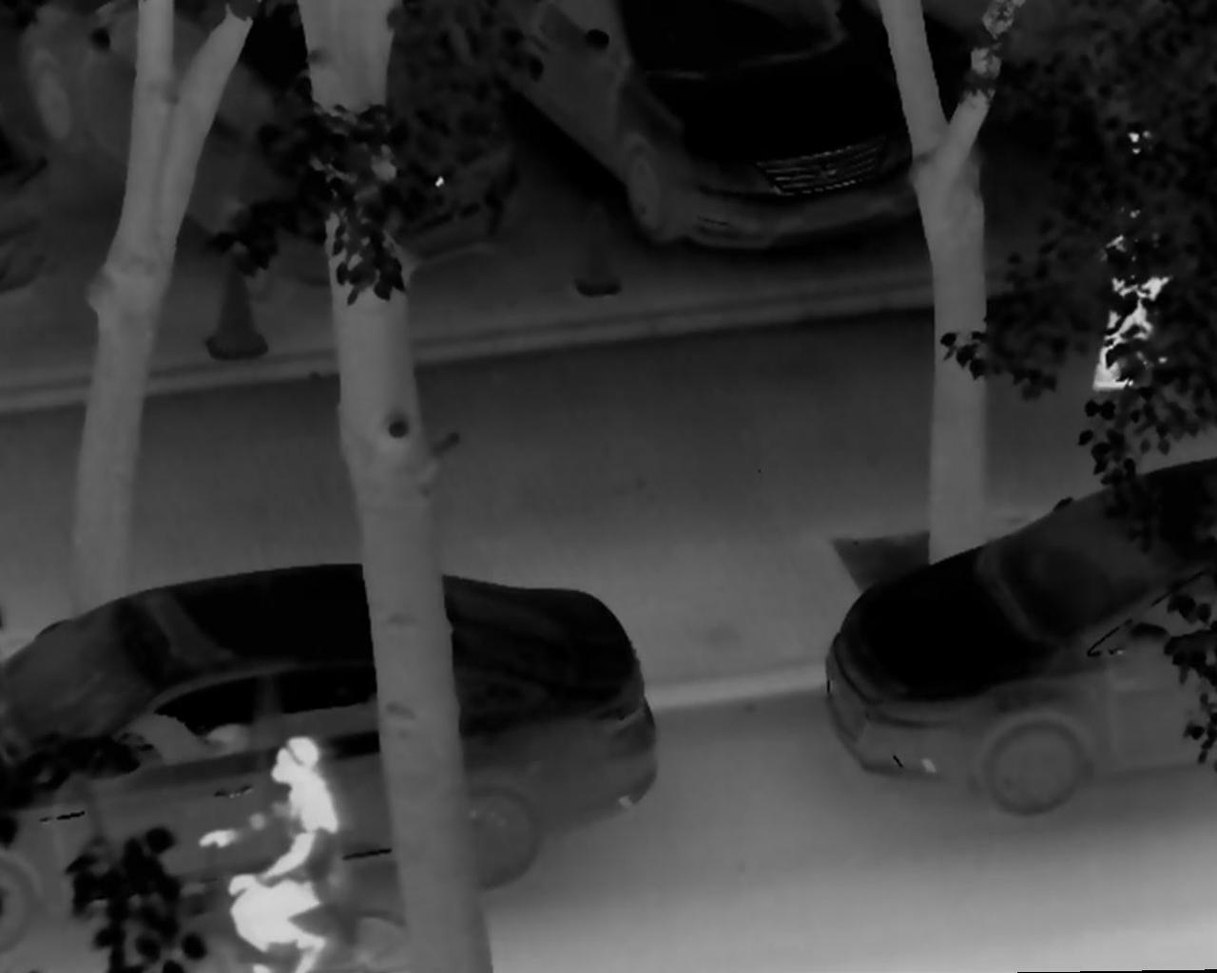person: (197, 730, 347, 973), (1088, 98, 1192, 394)
